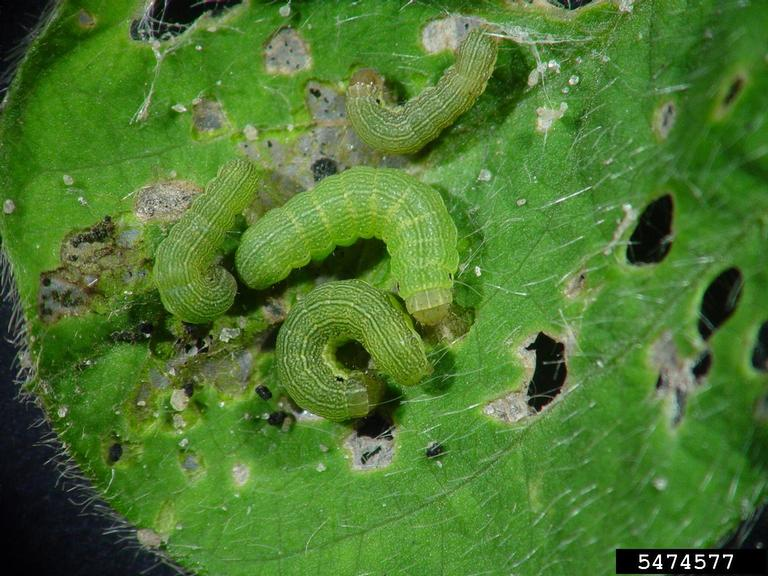Armyworm: (233, 161, 465, 331), (278, 280, 435, 441), (336, 25, 496, 147), (154, 143, 254, 324)
